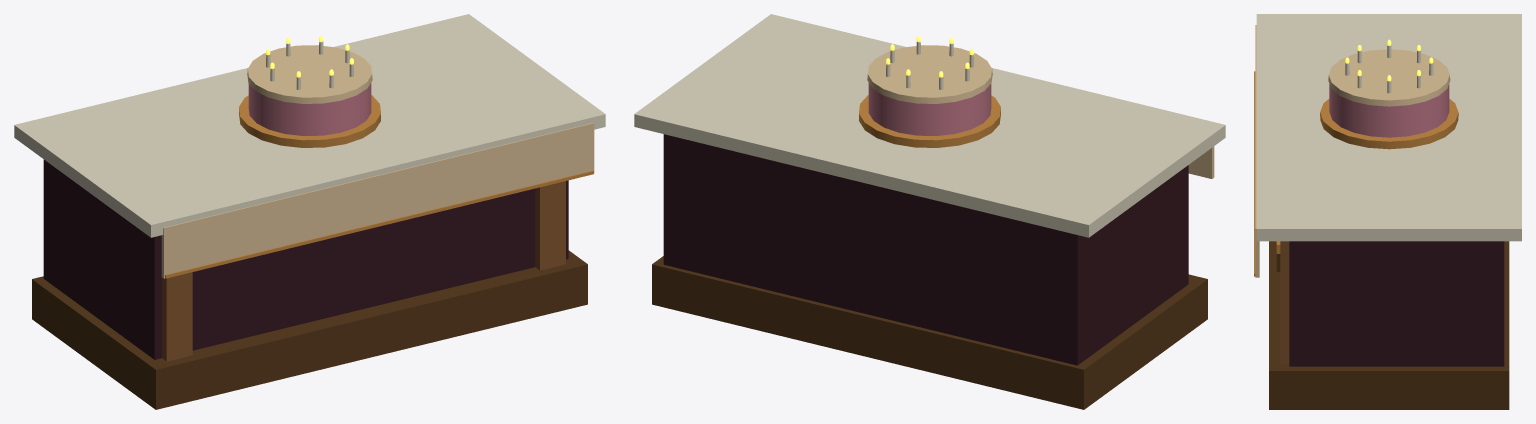
The model's file is mia-altar.glb.
3 views of the same model, side by side, from view 1: azimuth 30°, elevation 25°; view 2: azimuth 150°, elevation 25°; view 3: azimuth 270°, elevation 25° (orthographic). The views are drawn at different scales.
Parts seen in each view (by area): view 1: Body_mattress, Body_dark, Body_wood, Body_ivory, Body_oak, Body_brass, Body_cake-rose; view 2: Body_dark, Body_mattress, Body_wood, Body_ivory, Body_cake-rose, Body_brass; view 3: Body_mattress, Body_dark, Body_wood, Body_ivory, Body_cake-rose, Body_brass, Body_oak.
Part boxes in pixels (bbox=[...]): Body_mattress: bbox=[14, 14, 605, 237]; Body_dark: bbox=[43, 159, 568, 359]; Body_wood: bbox=[32, 250, 587, 409]; Body_ivory: bbox=[161, 45, 594, 278]; Body_oak: bbox=[162, 181, 565, 361]; Body_brass: bbox=[165, 95, 593, 278]; Body_cake-rose: bbox=[248, 83, 371, 135]; Body_dark: bbox=[663, 134, 1188, 365]; Body_mattress: bbox=[634, 14, 1225, 237]; Body_wood: bbox=[652, 256, 1207, 409]; Body_ivory: bbox=[867, 45, 1214, 178]; Body_cake-rose: bbox=[868, 83, 991, 135]; Body_brass: bbox=[859, 95, 1000, 147]; Body_mattress: bbox=[1256, 14, 1521, 241]; Body_dark: bbox=[1289, 241, 1504, 366]; Body_wood: bbox=[1269, 241, 1509, 409]; Body_ivory: bbox=[1255, 25, 1450, 277]; Body_cake-rose: bbox=[1329, 84, 1449, 137]; Body_brass: bbox=[1254, 71, 1458, 276]; Body_oak: bbox=[1280, 241, 1289, 363].
Size of the model in its own units: 2.1 by 1.14 by 1.11.
